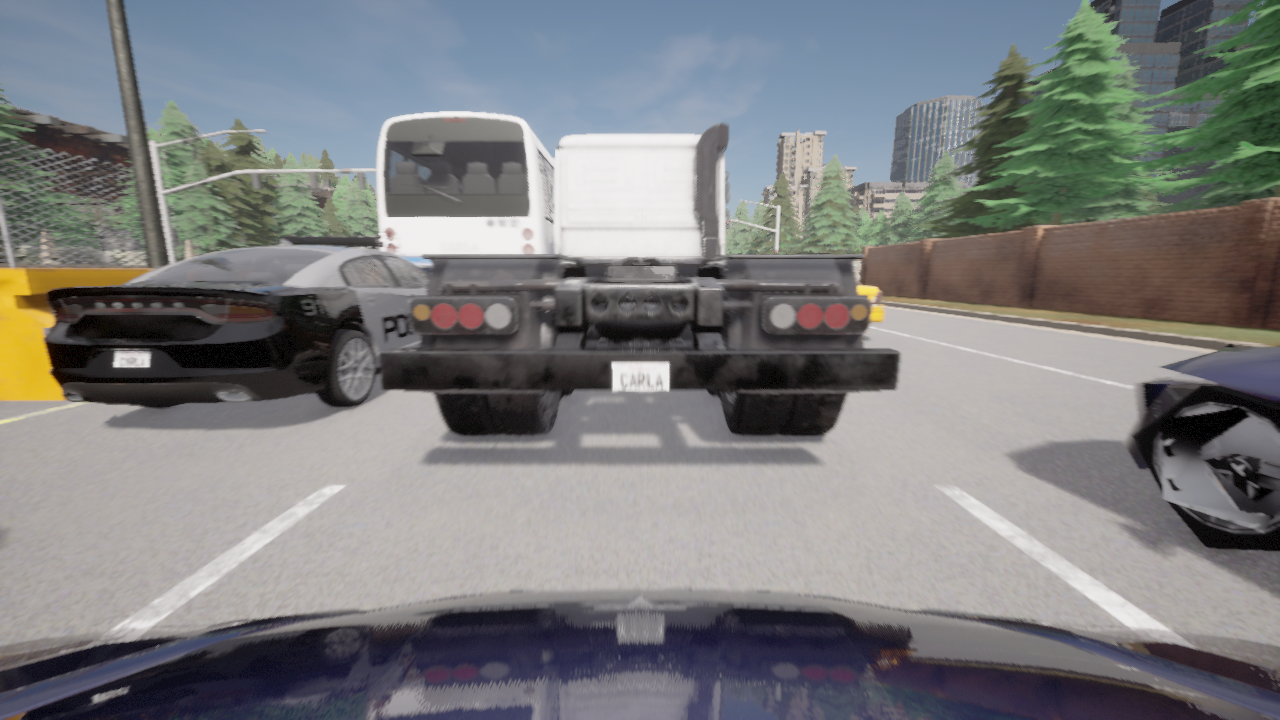cyclist: (0, 588, 1279, 719), (378, 123, 899, 435), (44, 235, 432, 407), (1123, 342, 1279, 551), (377, 112, 555, 274), (856, 280, 883, 322)
